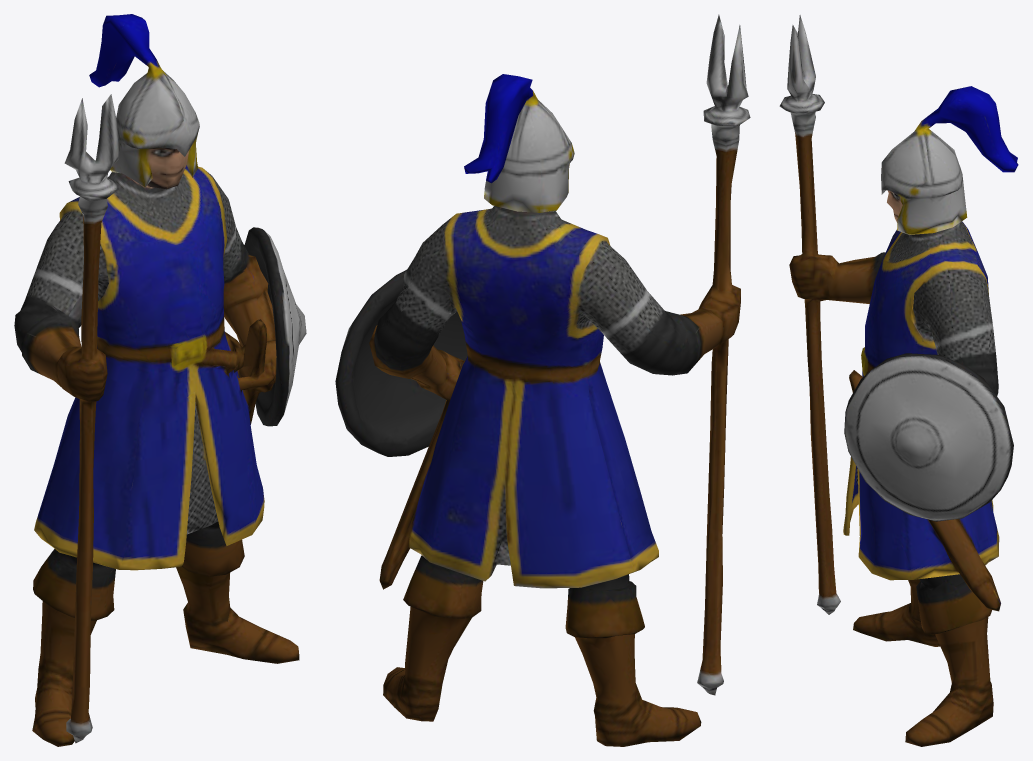
Rendered from spearmen_ready.glb.
The picture shows the model from 3 angles, left to right: view 1: azimuth 30°, elevation 25°; view 2: azimuth 150°, elevation 25°; view 3: azimuth 270°, elevation 25°; orthographic projection. The views are drawn at different scales.
Visible parts, largest first — view 1: world; view 2: world; view 3: world.
Part boxes in pixels (x1,y1,x2,y2): world: [14, 14, 306, 746]; world: [335, 14, 750, 746]; world: [779, 15, 1018, 746].
Bounding box in the file's own units: 0.4476 × 0.9622 × 0.3414.
Materials: 1 (1 with a texture image).
